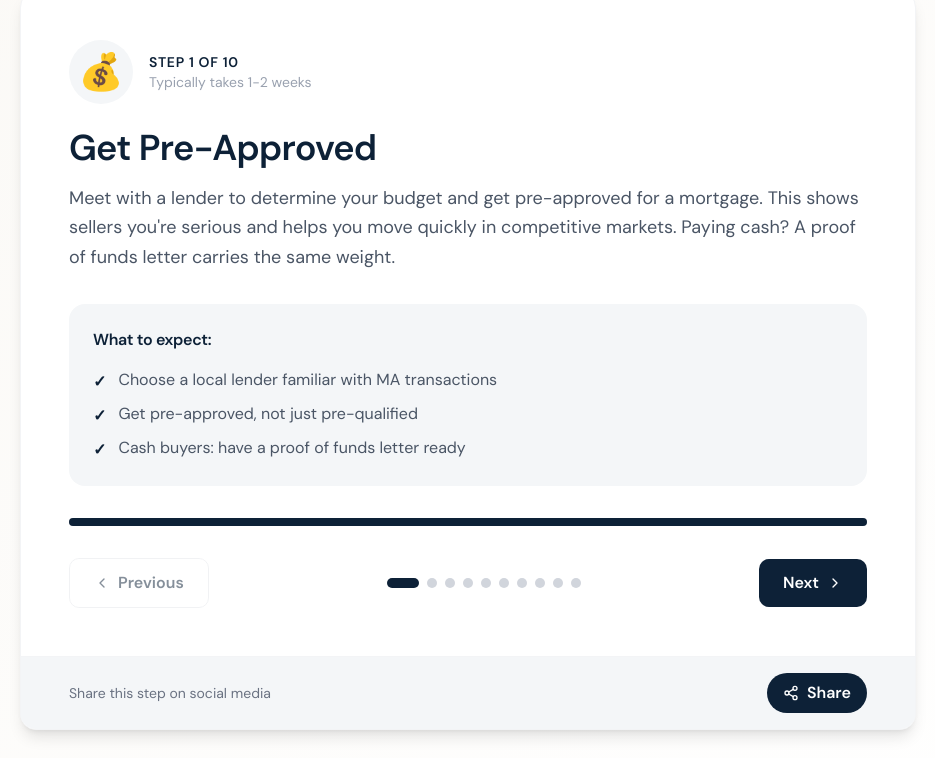
Scenario: BuyingProcessGuide › navigates to specific step when dot indicator is clicked
(page scrolled)
// Click the 5th dot (step 5)
Click the button named "Go to step": (486,583) [481,578,491,588]
(page scrolled)
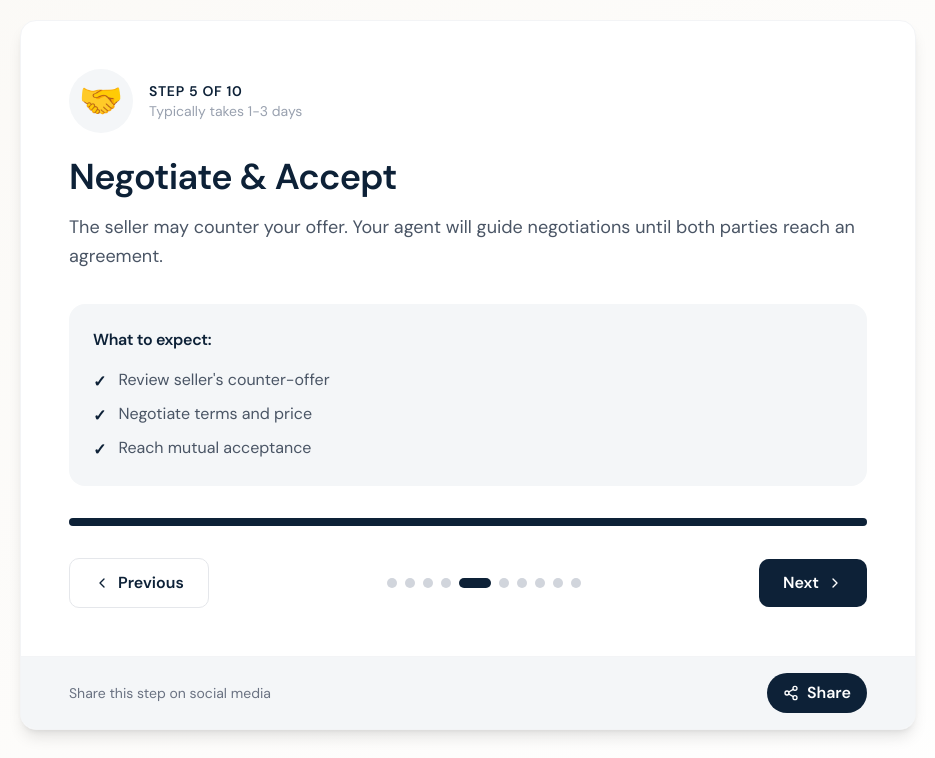
Expected: the heading "Negotiate & Accept" is shown, [69,153,397,200]
Expected: the text "Step 5 of 10" is shown, [149,82,243,100]
